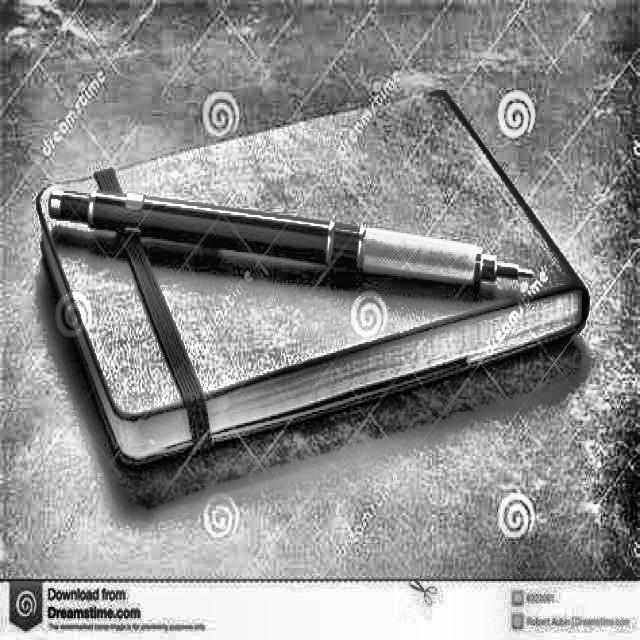Notebook: (32, 67, 540, 485)
Pen: (44, 179, 533, 289)
